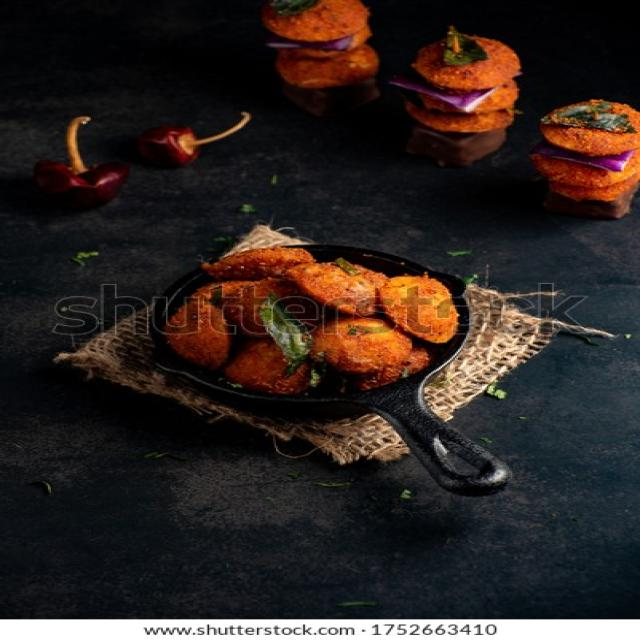IDLI: (310, 314, 409, 373), (541, 99, 638, 157), (413, 40, 519, 88), (288, 261, 378, 315), (165, 296, 227, 367), (385, 281, 450, 338), (265, 2, 366, 38), (234, 342, 310, 388), (209, 248, 308, 277)
